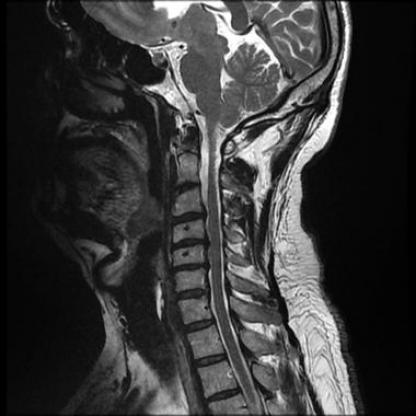Disc Protrusionrotation: (170, 209, 208, 226), (170, 260, 210, 275), (169, 235, 208, 250), (175, 286, 209, 302)
Osteophytesrotation: (171, 209, 209, 226), (170, 260, 210, 275), (169, 235, 208, 250), (175, 286, 209, 302)
